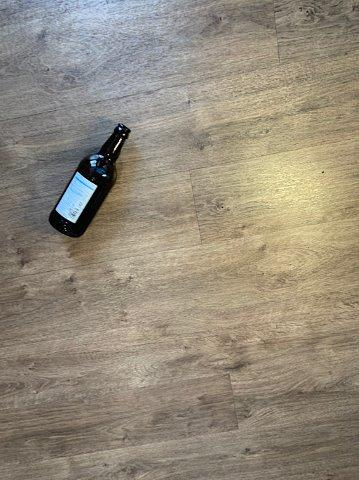botolkaca: (50, 125, 130, 238)
